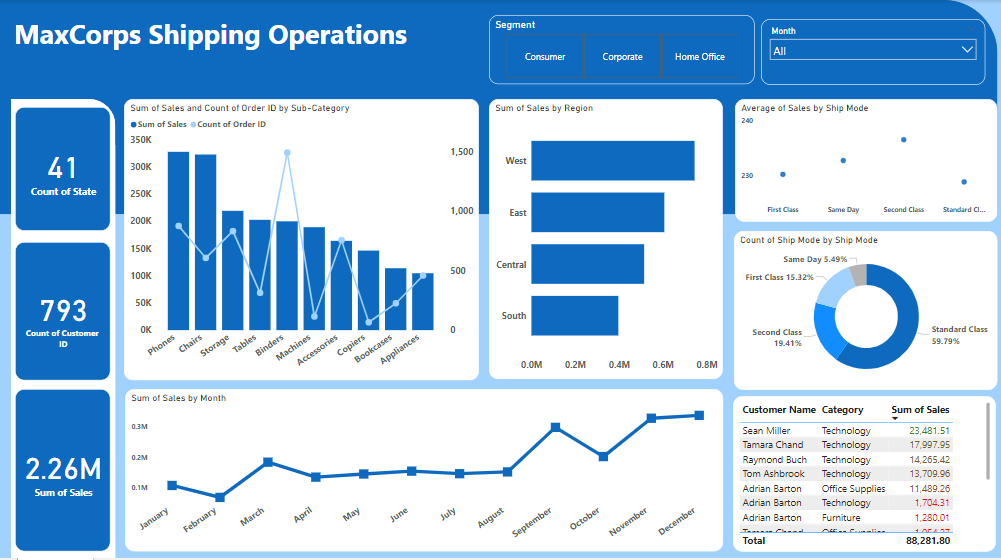

The page's visual inventory and layout, read from the dashboard file:
{"tool":"powerbi","page":{"name":"Page 1","canvas":[1800,1000],"ordinal":0},"visuals":[{"type":"shape","box":[0,0,1789.4,383.9],"z":0},{"type":"donutChart","fields":{"Y":["DailyTransaction.Ship Mode"],"Category":["DailyTransaction.Ship Mode"]},"box":[1316.9,413.4,472.4,285.4],"z":1000},{"type":"clusteredBarChart","fields":{"Category":["Customers1.Region"],"Y":["DailyTransaction.Sales"]},"box":[878,177.2,419.3,502],"z":2000},{"type":"lineChart","fields":{"Category":["DailyTransaction.Ship Date.Variation.Date Hierarchy.Month"],"Y":["DailyTransaction.Sales"]},"box":[226,697.8,1072.5,291.4],"z":3000},{"type":"lineClusteredColumnComboChart","fields":{"Category":["Products2.Sub-Category"],"Y":["DailyTransaction.Sales"],"Y2":["DailyTransaction.Order ID"]},"box":[224.4,177.2,635.8,503.9],"z":4000},{"type":"tableEx","fields":{"Values":["Customers1.Customer Name","Products2.Category","DailyTransaction.Sales"]},"box":[1315.4,709.6,471.2,278.8],"z":5000},{"type":"scatterChart","fields":{"X":["DailyTransaction.Ship Mode"],"Y":["DailyTransaction.Sales"]},"box":[1318.9,177.2,470.5,220.5],"z":6000},{"type":"shape","box":[21.7,177.2,187,822.8],"z":7000},{"type":"card","fields":{"Values":["Customers1.State"]},"box":[29.5,190.9,171.3,222.4],"z":8000},{"type":"card","fields":{"Values":["Customers1.Customer ID"]},"box":[29.5,433.1,171.3,248],"z":9000},{"type":"card","fields":{"Values":["DailyTransaction.Sales"]},"box":[29.5,696.9,171.3,291.3],"z":10000},{"type":"slicer","title":"Segment","fields":{"Values":["Customers1.Segment"]},"box":[878,27.6,476.4,124],"z":10001},{"type":"slicer","fields":{"Values":["DailyTransaction.Month"]},"box":[1366.1,33.5,401.6,118.1],"z":10002},{"type":"textbox","box":[21.7,21.7,824.8,139.8],"z":10003}]}

Visuals, with their boxes in screenshot pixels (x1, y1, x2, y2), scaled from the page's 1800x1000 canvas onto the 1001x560 screenshot:
shape: rect(0, 0, 995, 215)
donutChart - DailyTransaction.Ship Mode x DailyTransaction.Ship Mode: rect(732, 232, 995, 391)
clusteredBarChart - Customers1.Region x DailyTransaction.Sales: rect(488, 99, 721, 380)
lineChart - DailyTransaction.Ship Date.Variation.Date Hierarchy.Month x DailyTransaction.Sales: rect(126, 391, 722, 554)
lineClusteredColumnComboChart - Products2.Sub-Category x DailyTransaction.Sales: rect(125, 99, 478, 381)
tableEx - Customers1.Customer Name x Products2.Category: rect(732, 397, 994, 554)
scatterChart - DailyTransaction.Ship Mode x DailyTransaction.Sales: rect(733, 99, 995, 223)
shape: rect(12, 99, 116, 559)
card - Customers1.State: rect(16, 107, 112, 231)
card - Customers1.Customer ID: rect(16, 243, 112, 381)
card - DailyTransaction.Sales: rect(16, 390, 112, 553)
"Segment" slicer: rect(488, 15, 753, 85)
slicer - DailyTransaction.Month: rect(760, 19, 983, 85)
textbox: rect(12, 12, 471, 90)
